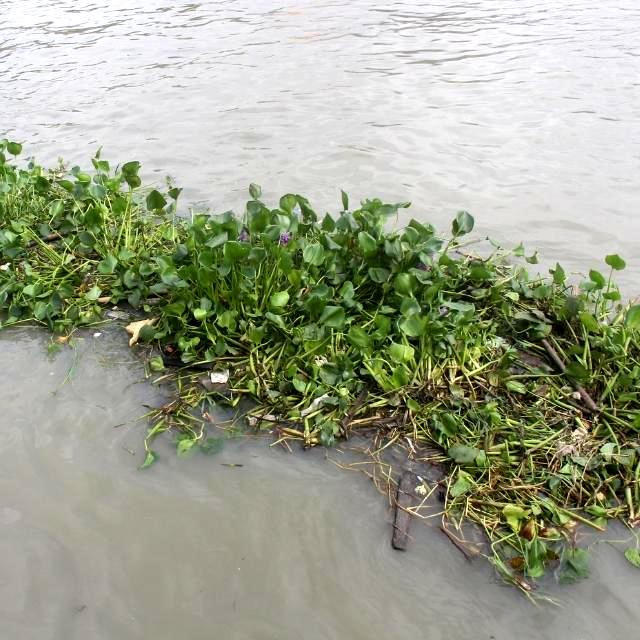water-hyacinth: (1, 125, 640, 579)
